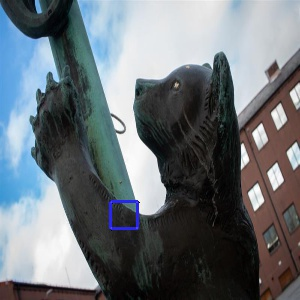square: (108, 199, 140, 231)
